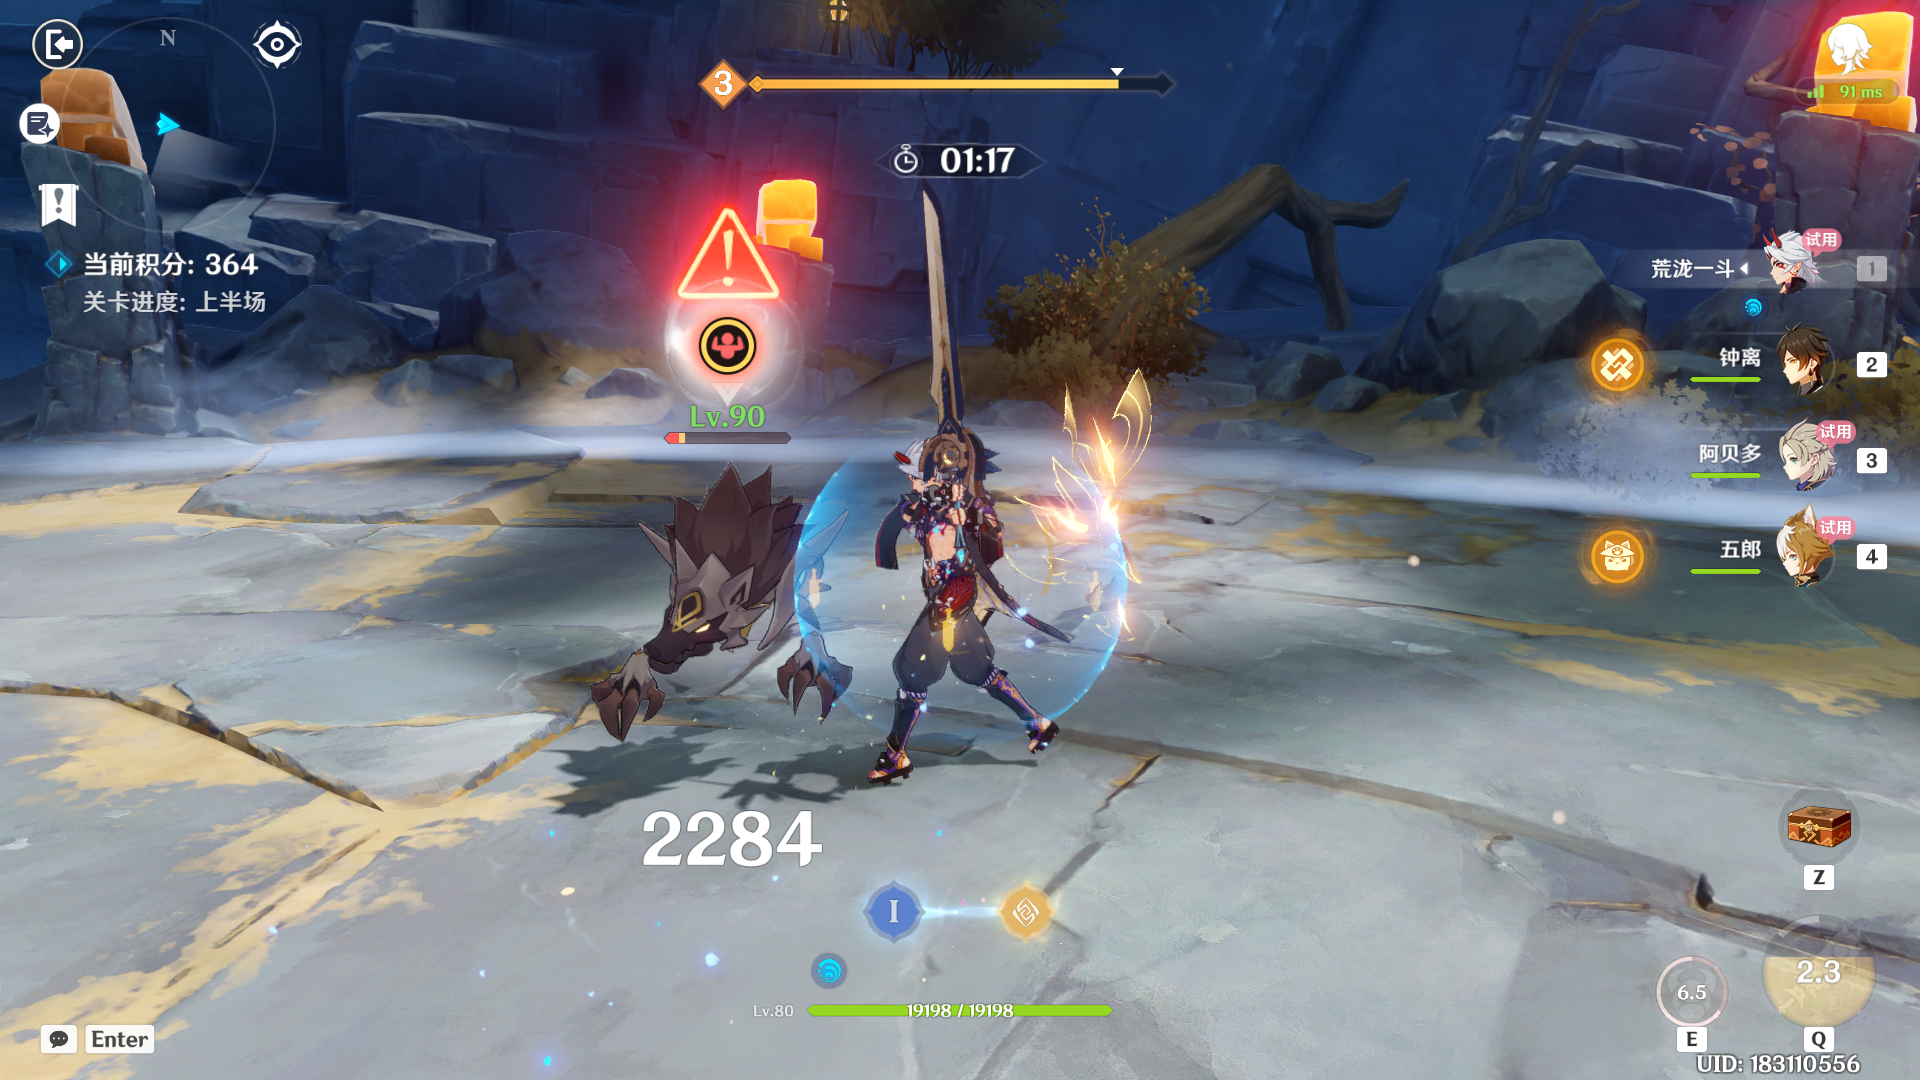character: (820, 405, 1151, 785)
